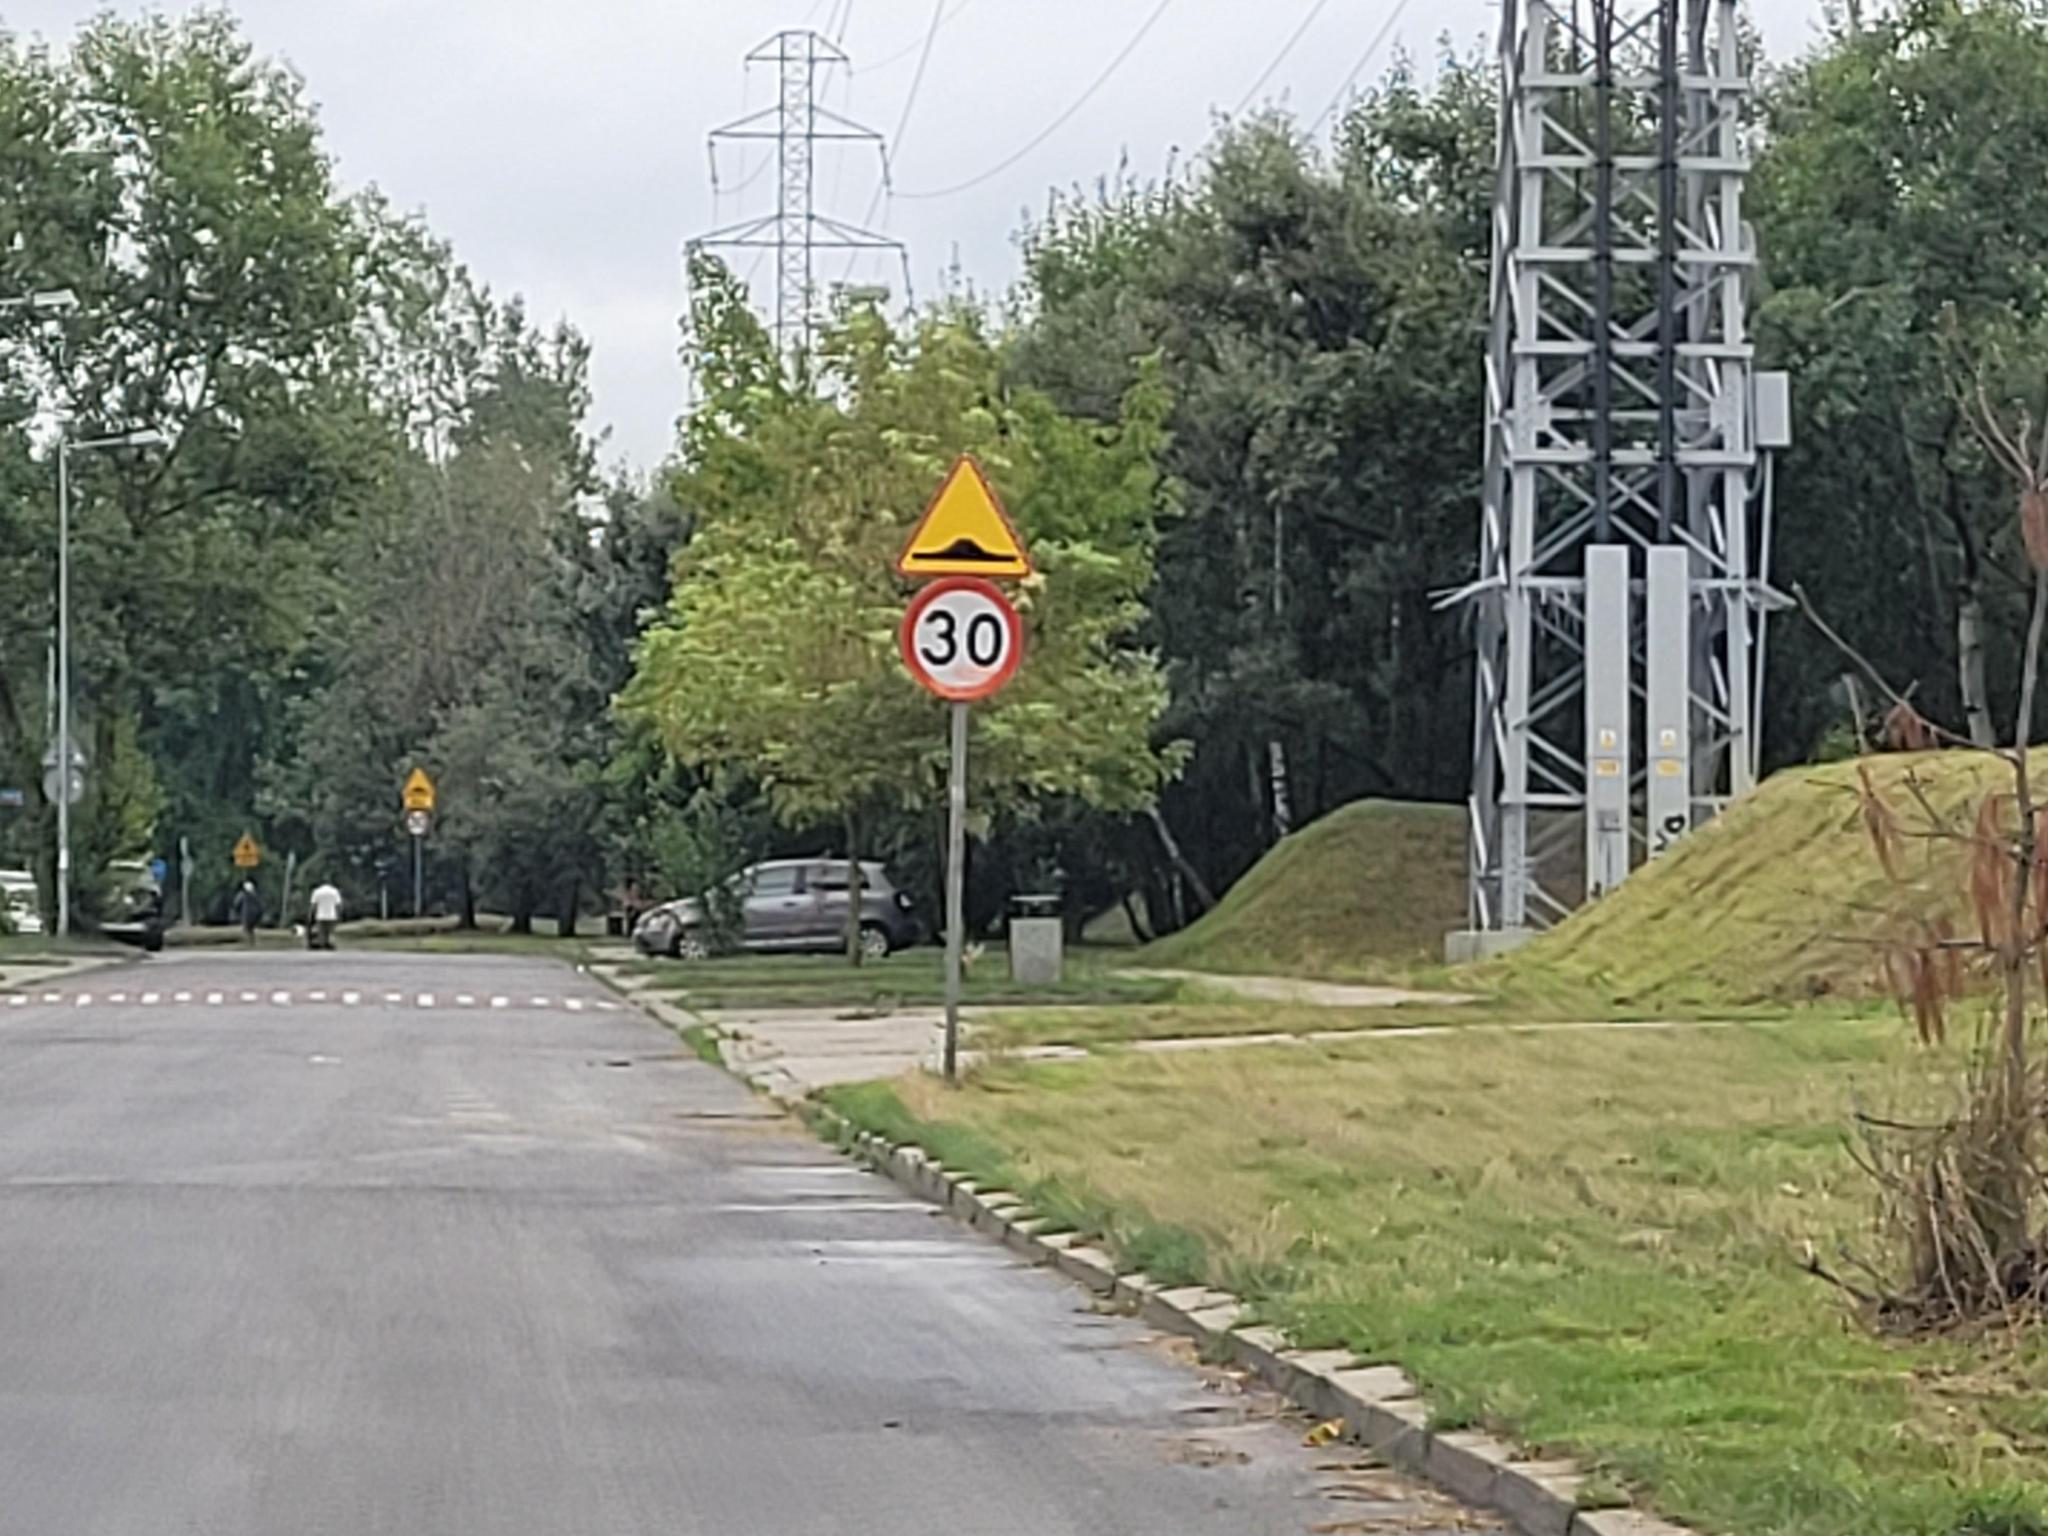other: (402, 800, 434, 808), (234, 856, 258, 866)
prohibitory: (904, 575, 1022, 701), (406, 811, 430, 837)
warning: (896, 452, 1032, 582), (404, 767, 434, 797), (234, 831, 258, 856)
